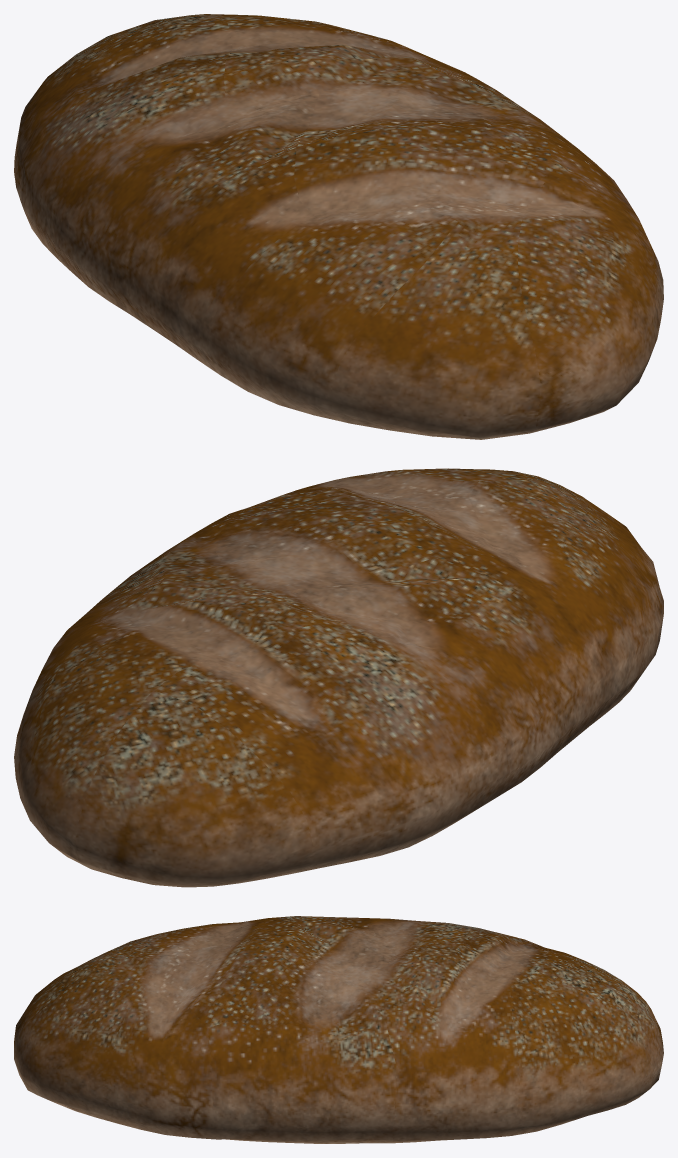
The model's file is Bread_20.obj.
3 views of the same model, one above another, from view 1: azimuth 30°, elevation 25°; view 2: azimuth 150°, elevation 25°; view 3: azimuth 270°, elevation 25° (orthographic). The views are drawn at different scales.
Parts seen in each view (by area): view 1: grainbread_b_mesh; view 2: grainbread_b_mesh; view 3: grainbread_b_mesh.
Boxes of the visible parts, box(x1,y1,x2,y2) form: grainbread_b_mesh: box(14, 14, 663, 439); grainbread_b_mesh: box(14, 468, 663, 887); grainbread_b_mesh: box(14, 916, 663, 1143).
Bounding box in the file's own units: 0.2197 × 0.0842 × 0.3709.
